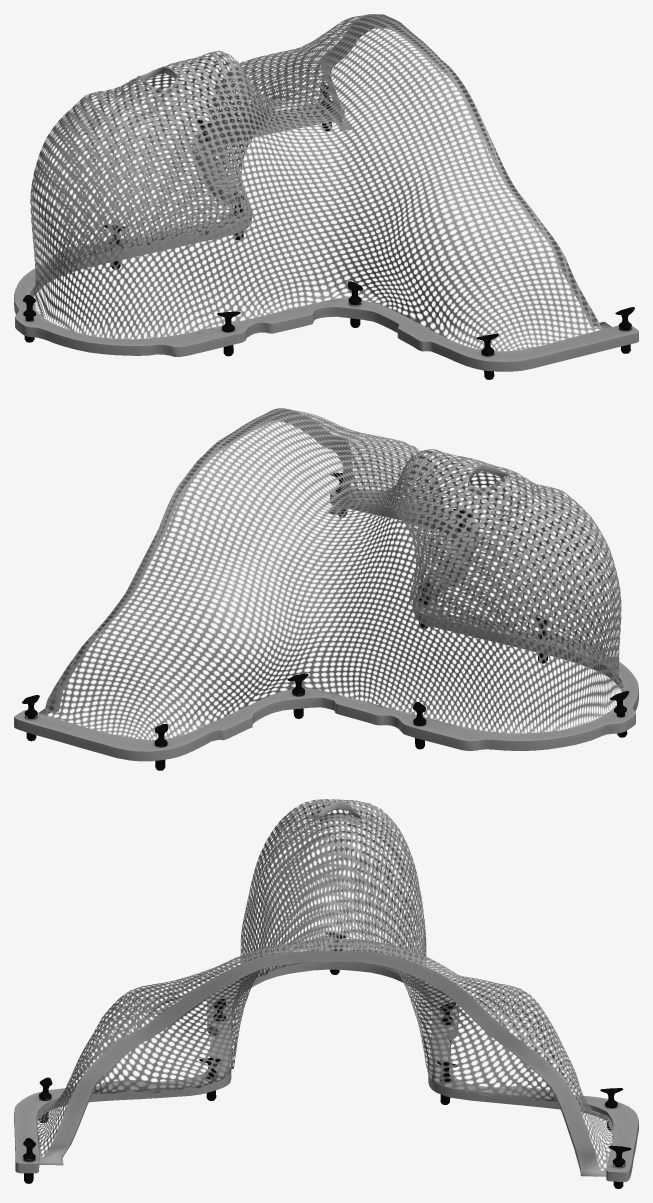
The model's file is radiomask.glb.
3 renders of one model, top to bottom at view 1: azimuth 30°, elevation 25°; view 2: azimuth 150°, elevation 25°; view 3: azimuth 270°, elevation 25°, orthographic. The views are drawn at different scales.
Bounding box in the file's own units: 65.02 × 32.51 × 77.88.
1 material, 1 textured.
